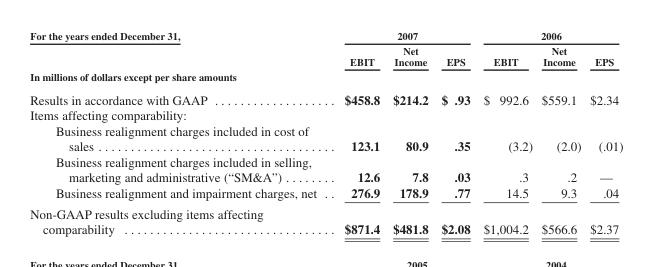table: (29, 29, 622, 235)
table column: (29, 29, 329, 235), (476, 29, 536, 235), (329, 29, 385, 235), (385, 29, 434, 235), (536, 29, 584, 235), (434, 29, 476, 235), (584, 29, 622, 235)
table column header: (29, 29, 622, 68)
table projected row header: (29, 68, 622, 87), (29, 107, 622, 122)
table row: (29, 202, 622, 235), (29, 122, 622, 153), (29, 153, 622, 184), (29, 42, 622, 68), (29, 87, 622, 107), (29, 68, 622, 87), (29, 184, 622, 202), (29, 107, 622, 122), (29, 29, 622, 42)
table spanning cell: (29, 29, 329, 68), (329, 29, 476, 42), (476, 29, 622, 42)
